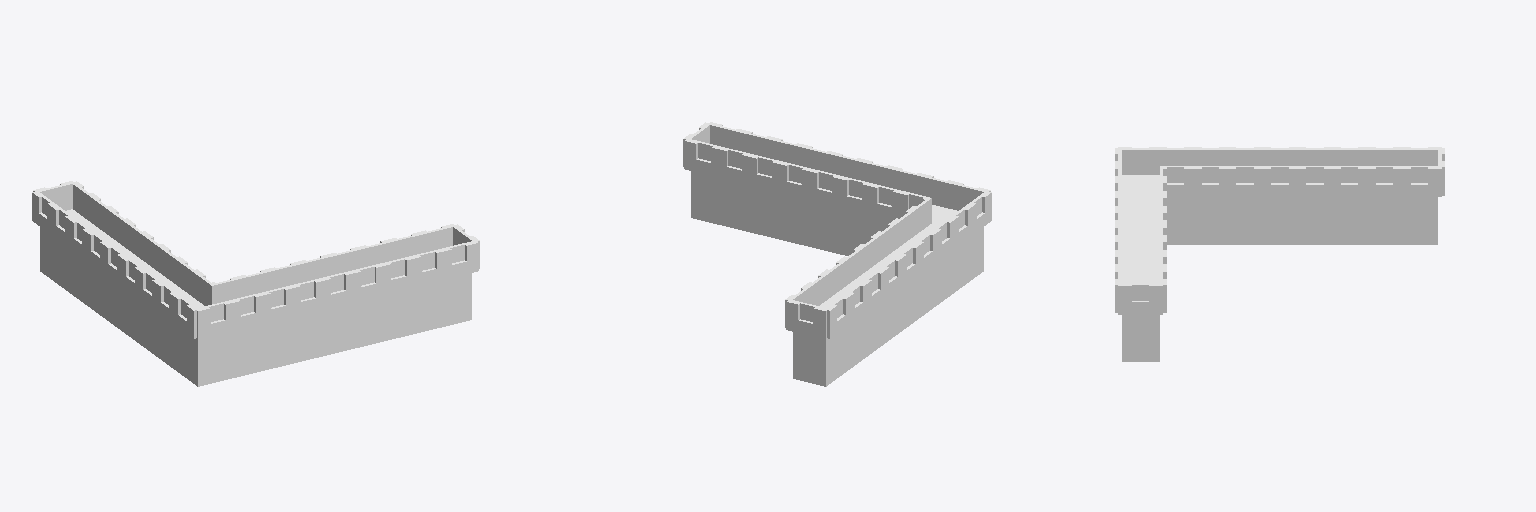
Rendered from wall_closed.obj.
3 renders of one model, left to right at view 1: azimuth 30°, elevation 25°; view 2: azimuth 150°, elevation 25°; view 3: azimuth 270°, elevation 25°, orthographic.
Visible parts, largest first — view 1: object 1; view 2: object 1; view 3: object 1.
Boxes of the visible parts, <box> form: object 1: <box>32,181,479,386</box>; object 1: <box>683,122,991,386</box>; object 1: <box>1115,147,1444,361</box>.
Size of the model in its own units: 9.5 by 2.5 by 9.5.